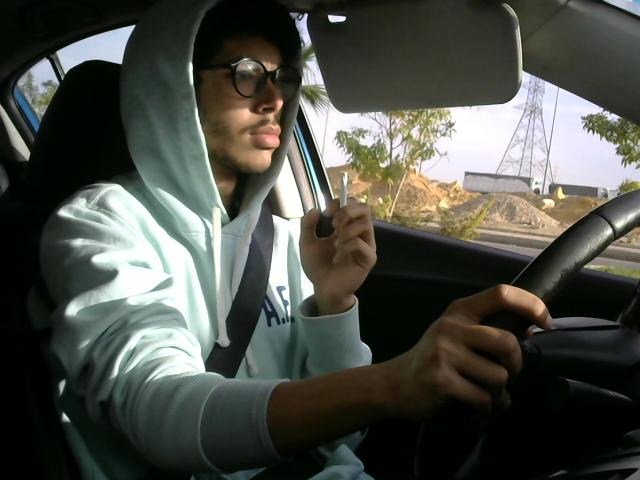Smoking: (330, 166, 353, 229)
